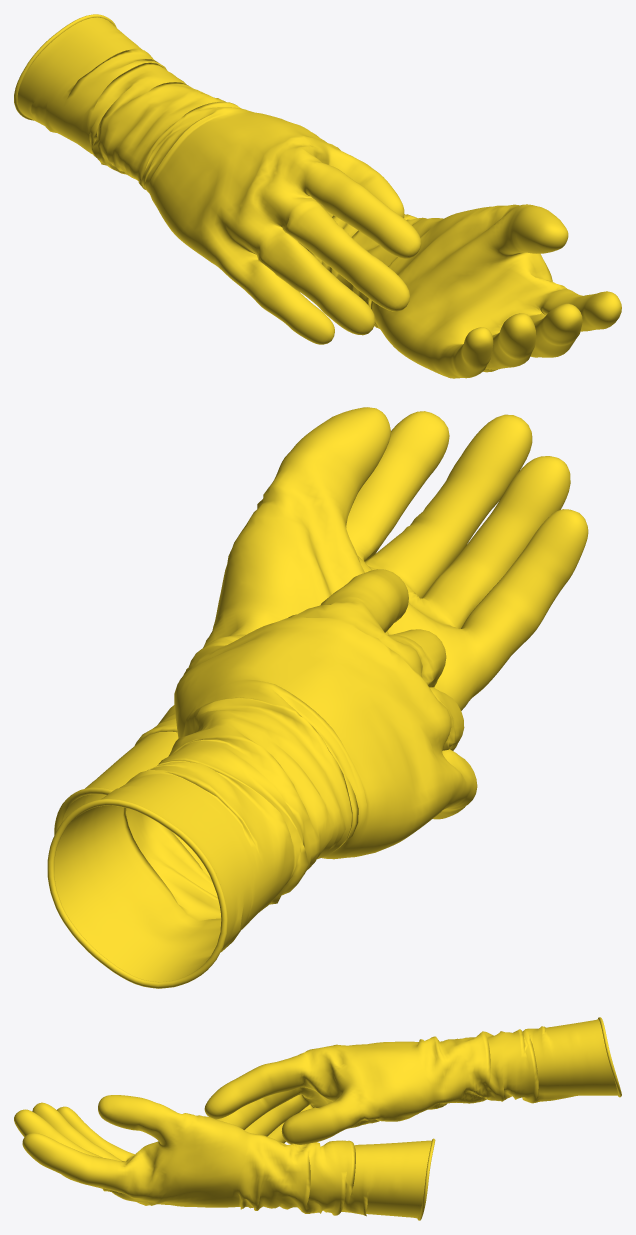
File: luva_borracha.gltf
3 renders of one model, top to bottom at view 1: azimuth 30°, elevation 25°; view 2: azimuth 150°, elevation 25°; view 3: azimuth 270°, elevation 25°, orthographic. The views are drawn at different scales.
Visible parts, largest first — view 1: Glove_rubber_low, Glove_rubber_low.001; view 2: Glove_rubber_low, Glove_rubber_low.001; view 3: Glove_rubber_low.001, Glove_rubber_low.
Boxes of the visible parts, box(x1,y1,x2,y2) form: Glove_rubber_low: box(14, 14, 421, 344); Glove_rubber_low.001: box(298, 204, 621, 378); Glove_rubber_low: box(47, 569, 477, 988); Glove_rubber_low.001: box(54, 407, 588, 835); Glove_rubber_low.001: box(14, 1095, 435, 1220); Glove_rubber_low: box(204, 1017, 621, 1144).
Size of the model in its own units: 0.14 by 0.1044 by 0.3593.
